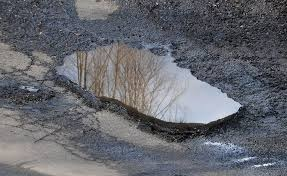pothole: (31, 49, 272, 133), (2, 76, 59, 101), (75, 0, 119, 22)
